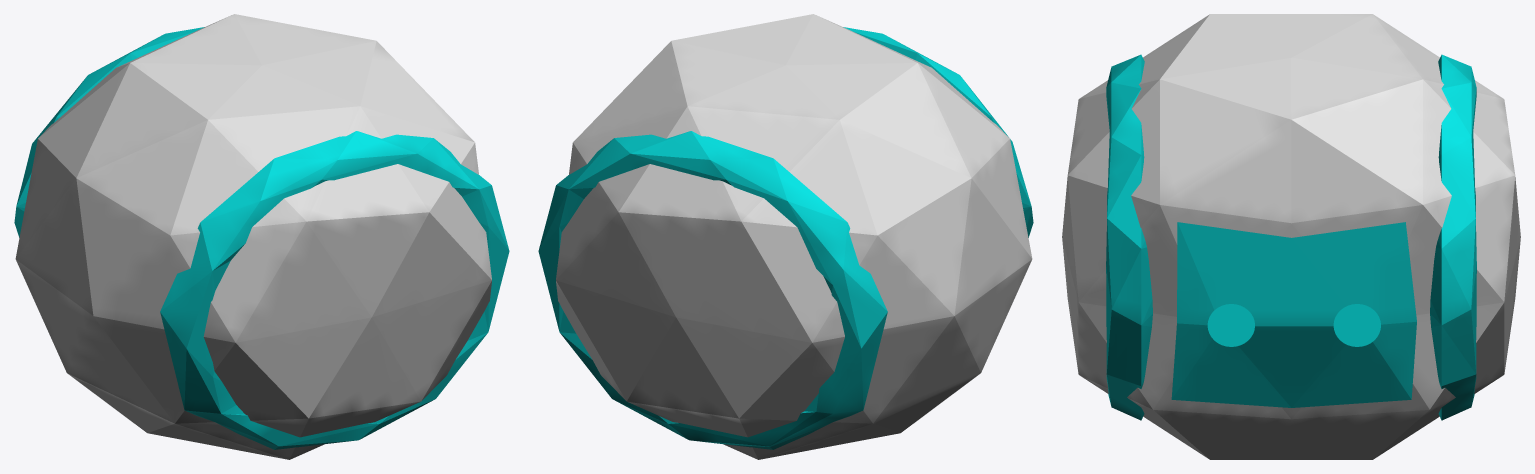
The model's file is guest.dae.
3 renders of one model, left to right at view 1: azimuth 30°, elevation 25°; view 2: azimuth 150°, elevation 25°; view 3: azimuth 270°, elevation 25°, orthographic. The views are drawn at different scales.
Visible parts, largest first — view 1: Icosphere; view 2: Icosphere; view 3: Icosphere.
Boxes of the visible parts, box(x1,y1,x2,y2) form: Icosphere: box(14, 14, 509, 459); Icosphere: box(538, 14, 1033, 459); Icosphere: box(1062, 14, 1520, 459).
Size of the model in its own units: 0.2213 by 0.2204 by 0.192.
1 material, 1 textured.
